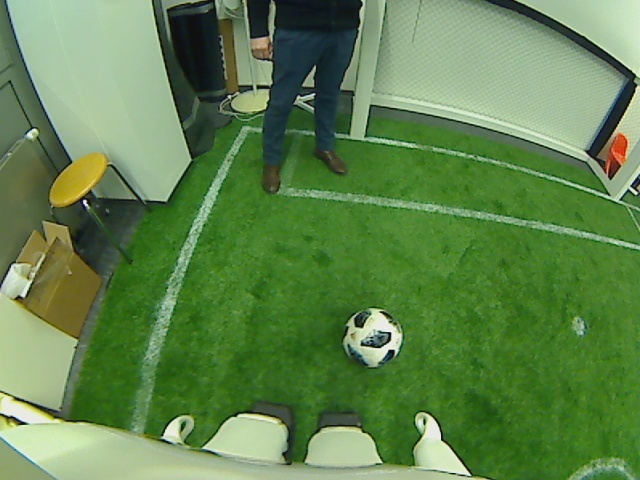ball: (339, 307, 406, 370)
